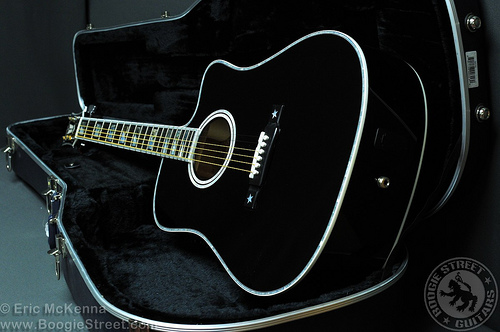guitar: (61, 28, 426, 298)
